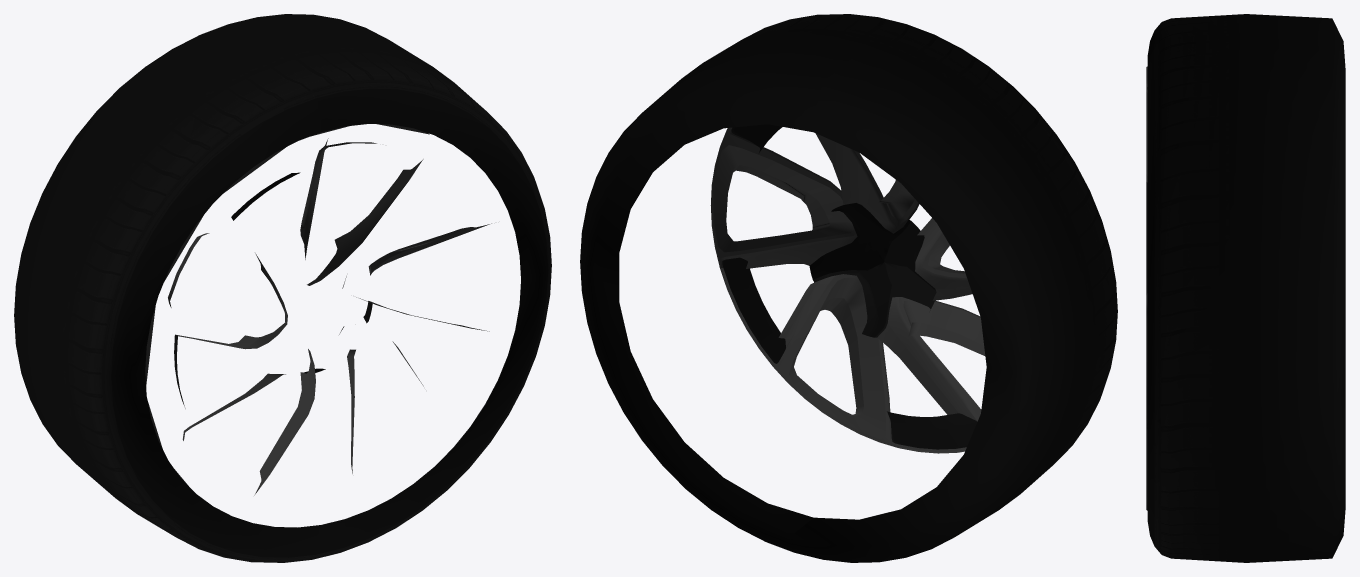
File: Wishbone_19.glb
3 views of the same model, side by side, from view 1: azimuth 30°, elevation 25°; view 2: azimuth 150°, elevation 25°; view 3: azimuth 270°, elevation 25° (orthographic). The views are drawn at different scales.
Parts seen in each view (by area): view 1: Wheel_Wishbone; view 2: Wheel_Wishbone; view 3: Wheel_Wishbone.
Part boxes in pixels (x1,y1,x2,y2): Wheel_Wishbone: [14, 14, 551, 562]; Wheel_Wishbone: [580, 14, 1117, 562]; Wheel_Wishbone: [1146, 14, 1345, 562].
Bounding box in the file's own units: 0.6735 × 0.6722 × 0.2449.
2 materials, 2 textured.
